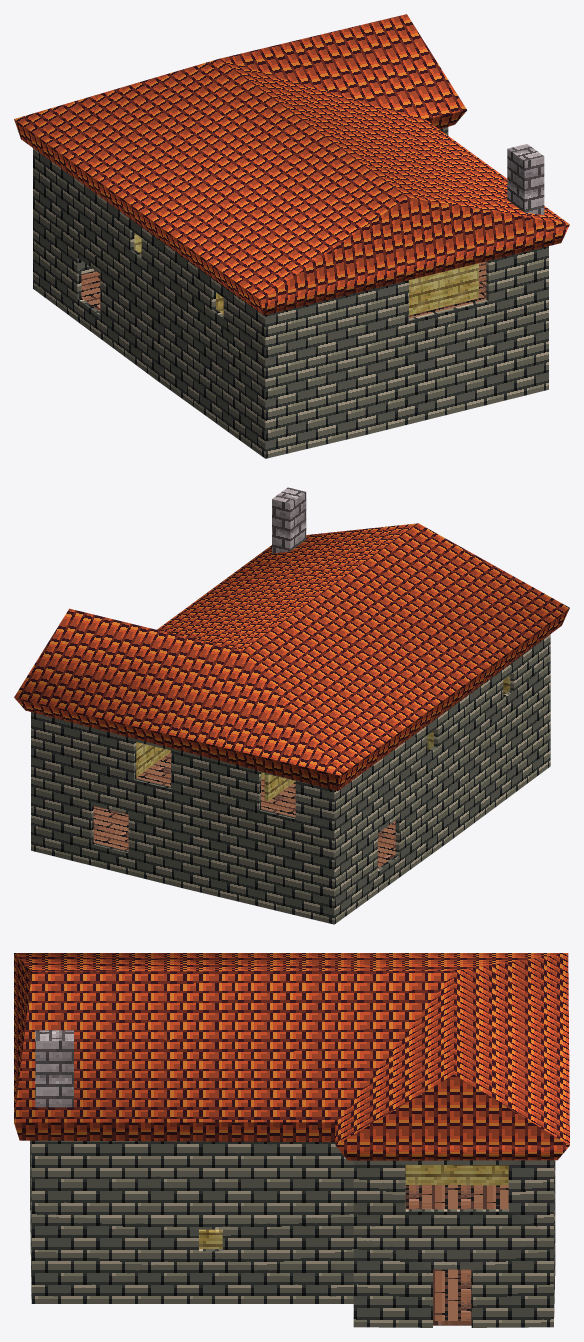
File: inn1.obj
The picture shows the model from 3 angles, top to bottom: view 1: azimuth 30°, elevation 25°; view 2: azimuth 150°, elevation 25°; view 3: azimuth 270°, elevation 25°; orthographic projection. The views are drawn at different scales.
Visible parts, largest first — view 1: Plane002, Object001, Box003, Box006, Object002; view 2: Plane002, Object001, Object002, Box006, Box007; view 3: Plane002, Object001, Object002, Box006, Box007, Box002.
Boxes of the visible parts, left/top/right/bottom form: Plane002: left=14, top=14, right=569, bottom=315; Object001: left=33, top=127, right=548, bottom=458; Box003: left=216, top=263, right=478, bottom=315; Box006: left=507, top=144, right=544, bottom=214; Object002: left=81, top=262, right=486, bottom=318; Plane002: left=14, top=523, right=569, bottom=790; Object001: left=31, top=634, right=550, bottom=924; Object002: left=93, top=752, right=395, bottom=867; Box006: left=272, top=487, right=306, bottom=553; Box007: left=136, top=742, right=295, bottom=801; Plane002: left=14, top=953, right=569, bottom=1160; Object001: left=30, top=1140, right=555, bottom=1327; Object002: left=405, top=1185, right=508, bottom=1325; Box006: left=35, top=1030, right=73, bottom=1107; Box007: left=405, top=1165, right=508, bottom=1185; Box002: left=199, top=1229, right=222, bottom=1248.
Bounding box in the file's own units: 17.63 × 11.2 × 21.59.
